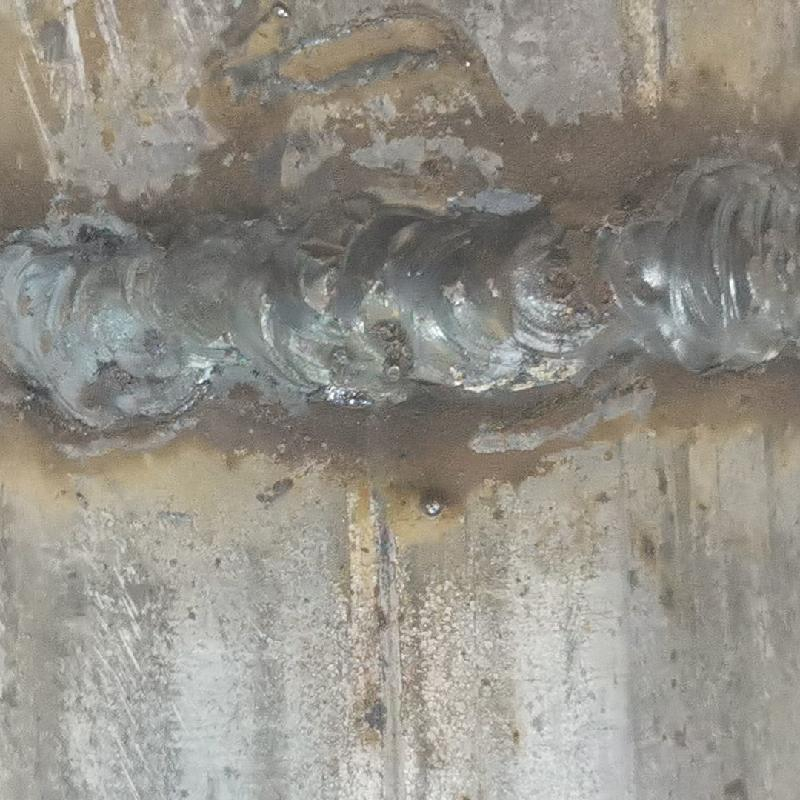good: (2, 170, 799, 410)
